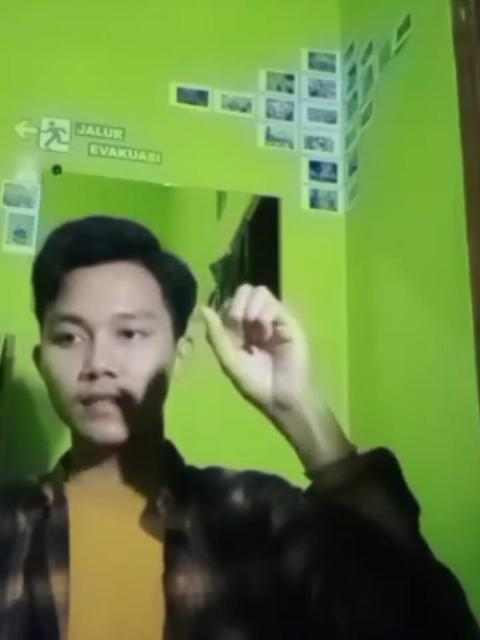S: (198, 274, 324, 428)
